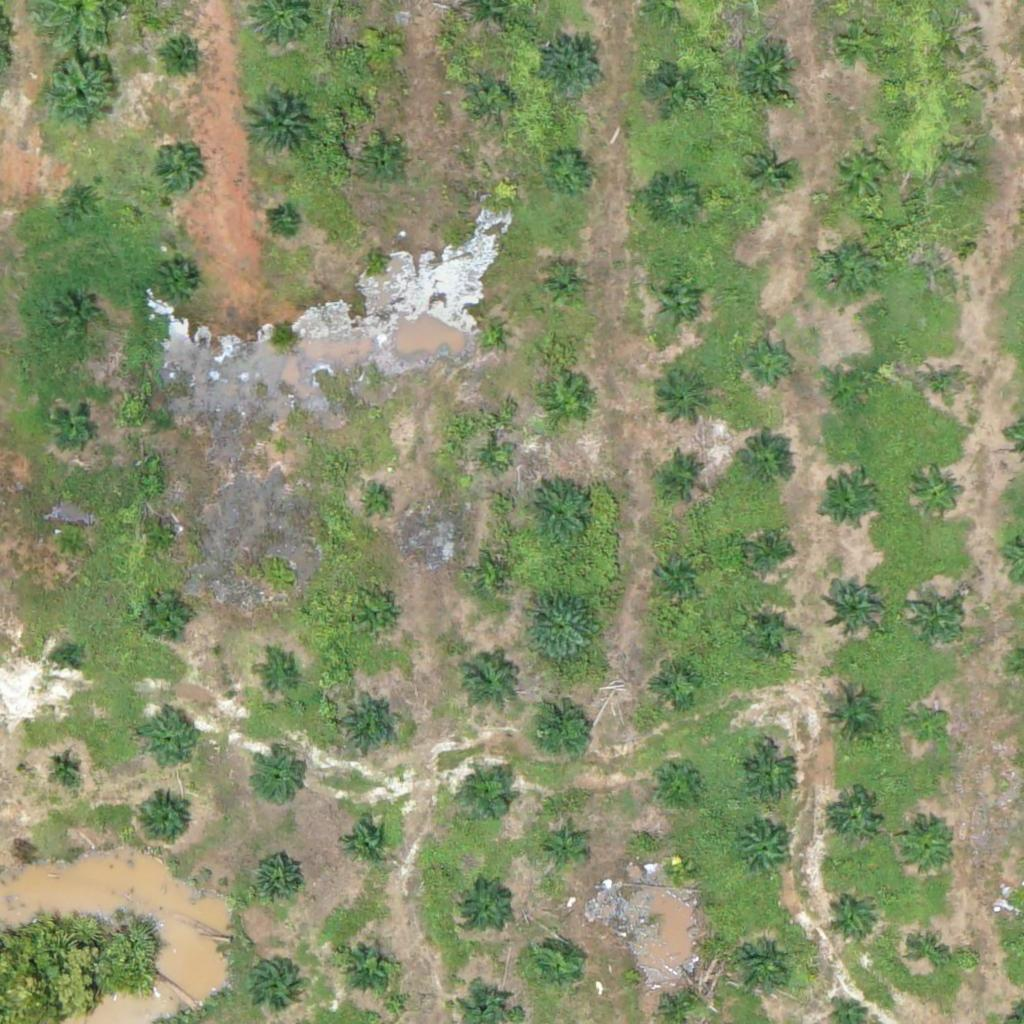Kelapa_Sawit: (36, 50, 124, 138), (521, 474, 596, 550), (525, 692, 600, 768), (525, 588, 600, 664), (242, 86, 317, 162), (454, 647, 517, 710), (739, 743, 802, 806), (339, 693, 402, 756), (655, 367, 718, 430), (813, 238, 876, 301), (542, 36, 605, 99), (734, 436, 797, 499), (818, 474, 880, 537), (731, 935, 793, 998), (819, 687, 881, 750), (906, 588, 968, 651), (822, 571, 884, 634), (133, 790, 195, 853), (337, 932, 399, 995), (137, 708, 199, 771), (737, 40, 799, 103), (831, 141, 893, 204), (736, 822, 798, 884), (912, 467, 962, 518), (253, 752, 303, 803), (250, 853, 300, 904), (341, 817, 391, 868), (143, 589, 193, 640), (649, 175, 699, 226), (647, 57, 697, 108), (468, 73, 518, 124), (356, 19, 406, 70), (544, 146, 594, 197), (742, 146, 792, 197), (916, 361, 966, 412), (828, 359, 878, 410), (746, 336, 796, 387), (654, 278, 704, 329), (465, 772, 515, 822), (461, 882, 511, 932), (651, 755, 701, 805), (650, 659, 700, 709), (832, 790, 882, 840), (902, 822, 952, 872), (528, 938, 578, 988), (247, 956, 297, 1006), (543, 380, 593, 430), (837, 17, 887, 67), (362, 140, 412, 190), (744, 525, 794, 575), (746, 609, 796, 659), (652, 545, 702, 595), (657, 450, 707, 500), (539, 263, 589, 313), (827, 894, 877, 944), (151, 146, 201, 196), (154, 260, 204, 310), (51, 399, 101, 449), (51, 292, 101, 342), (58, 178, 108, 228), (543, 828, 581, 866), (256, 658, 294, 696), (907, 707, 945, 745), (911, 932, 949, 970), (361, 601, 398, 639), (927, 236, 964, 274), (48, 749, 85, 787), (52, 525, 90, 562), (145, 519, 182, 557), (271, 209, 296, 235), (483, 565, 508, 591), (476, 320, 501, 345), (481, 448, 506, 473), (364, 491, 389, 516), (364, 247, 389, 272), (664, 856, 689, 881), (54, 646, 79, 671), (172, 45, 197, 70), (270, 436, 295, 461)
